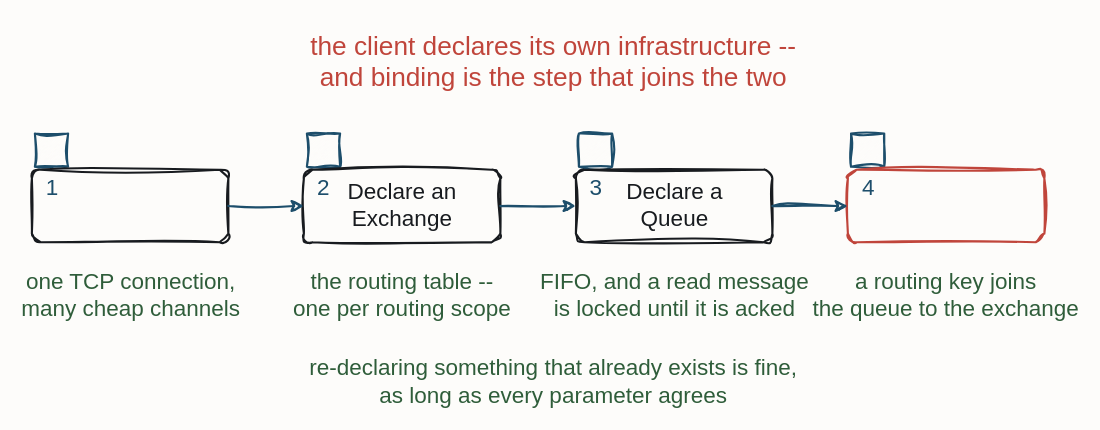
This 1100x430 diagram has some shape labels left out. Here are the shapes that lost their labels. From the top down, the centre of each, then its label:
(129,205): Connect
(945,205): Bind
